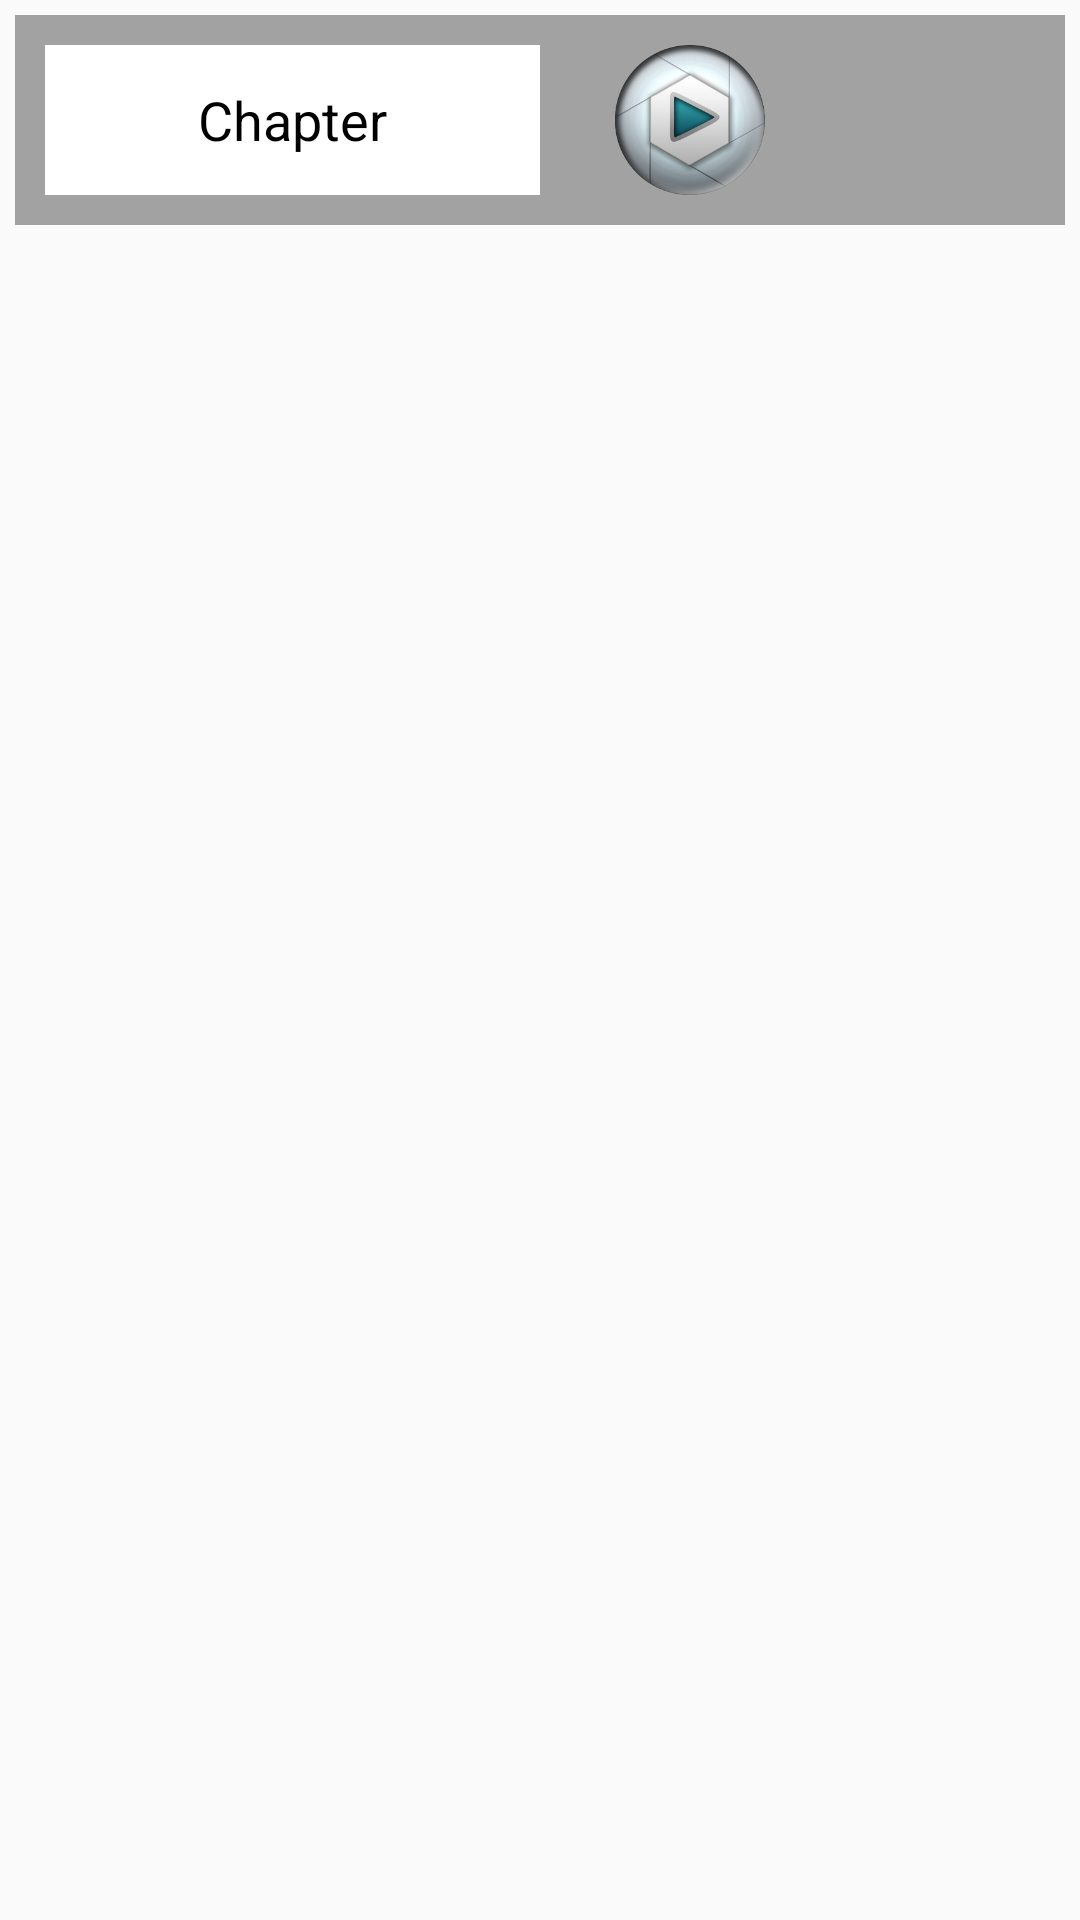

Named icons in this screenshot (1080 × 1920) and their bounding boxes, [left=x1, top=y1, right=x2, bottom=y2]:
play: [left=615, top=45, right=765, bottom=195]
